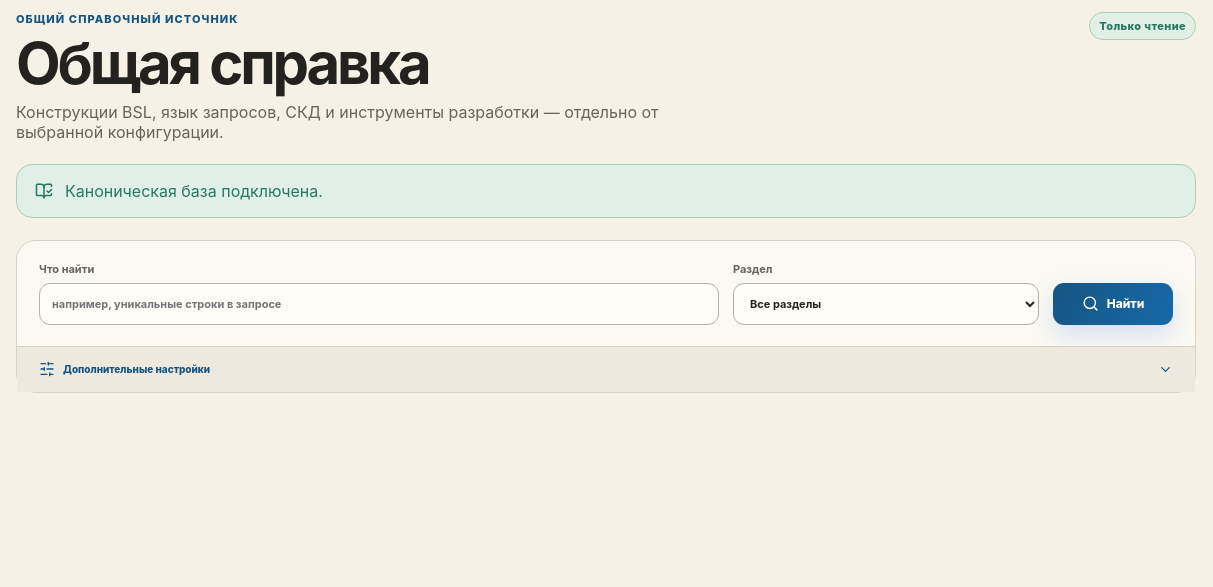
Test: показывает пустую выдачу
Type "небывалыйтокен" into the field labelled "Что найти" at x=379, y=304, box [39,283,719,325]
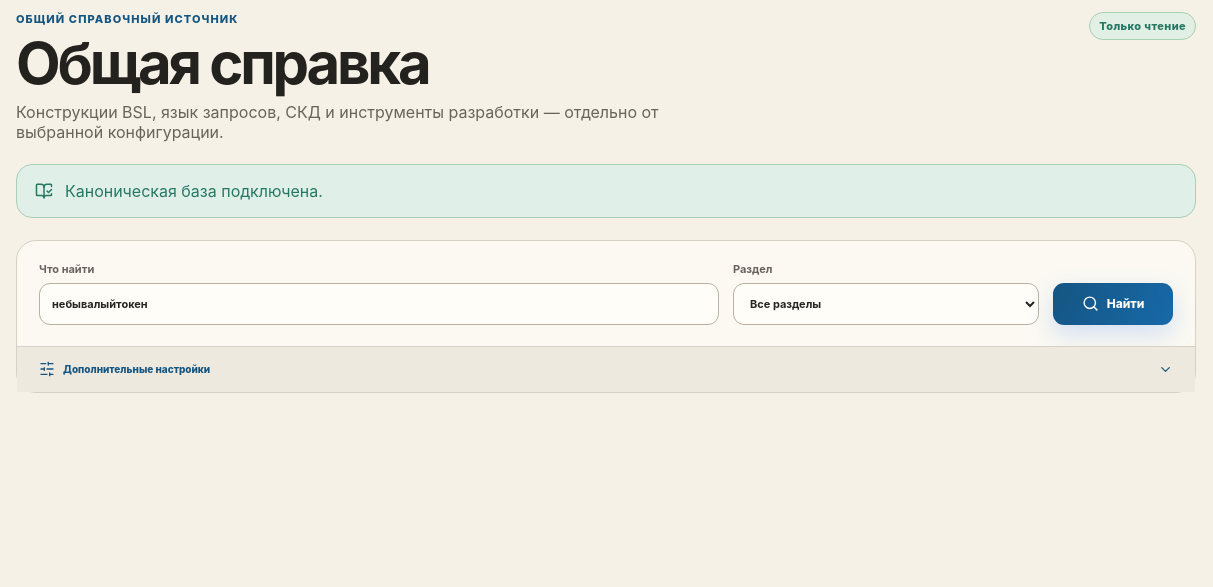
Click the button "Найти" at x=1113, y=304, box [1053,283,1173,325]
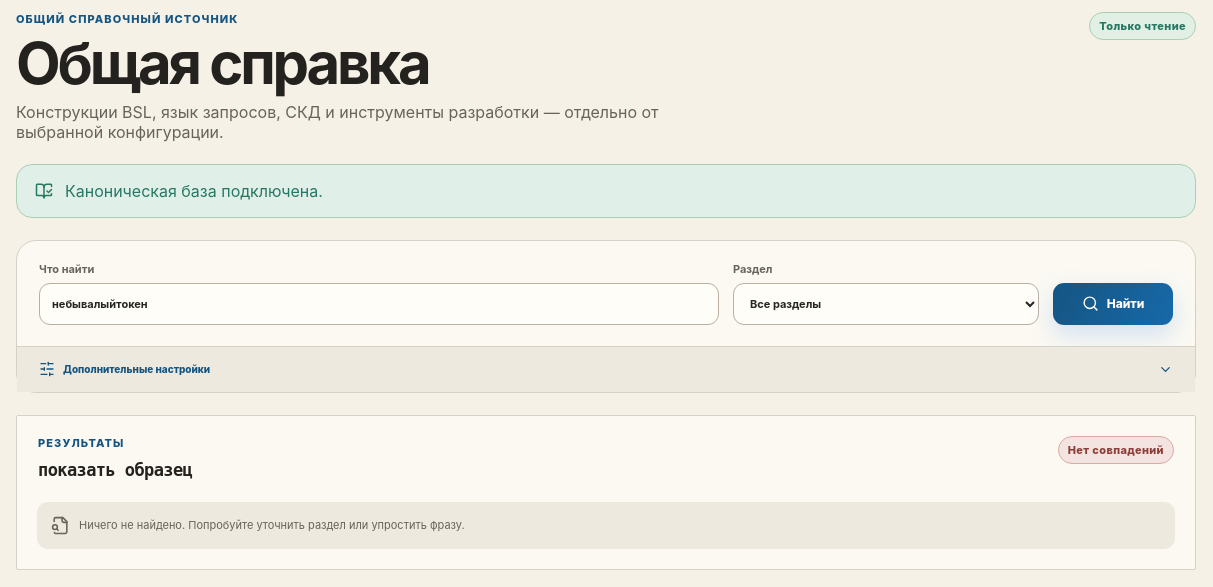
Check: the text "Ничего не найдено" is shown, box [79,518,465,532]
